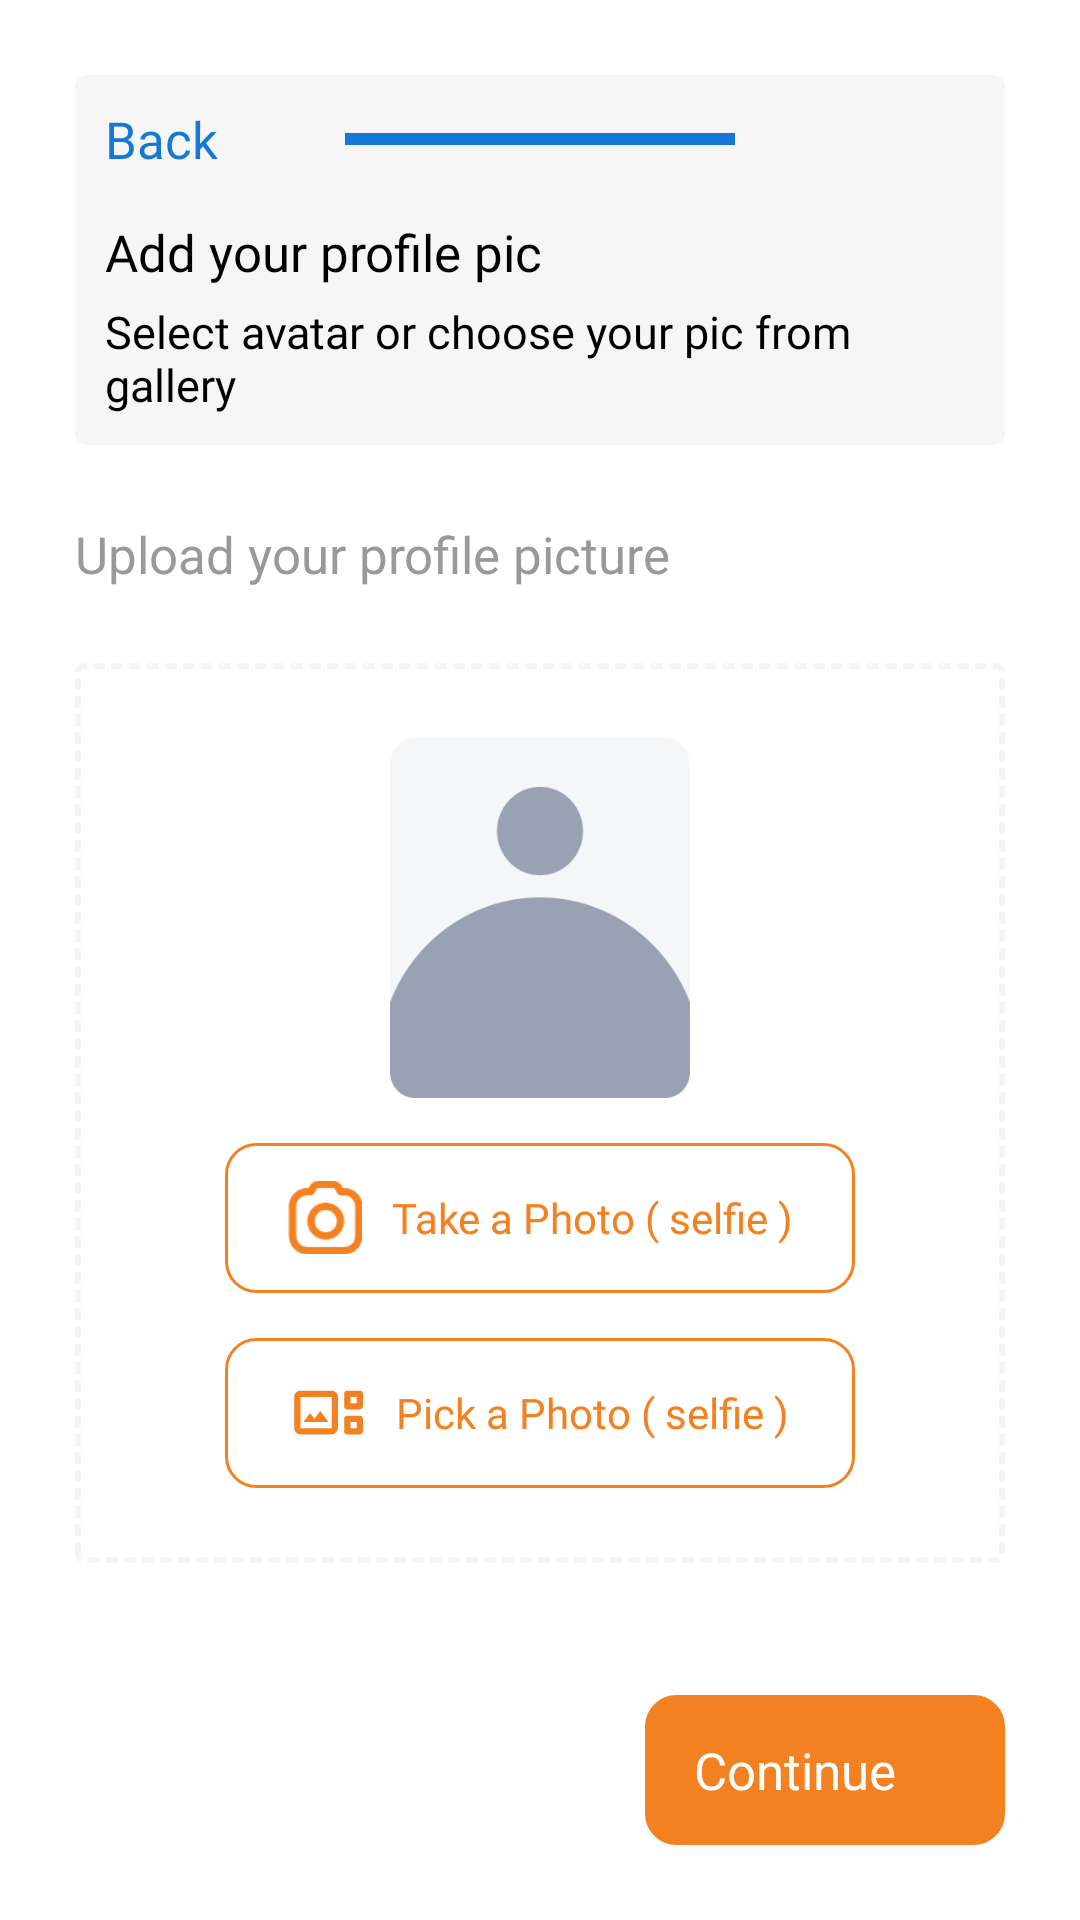

Screen size 1080x1920. Icon name, then its center in pixels as (x,y):
camera: (325,1217)
gallery: (328,1412)
user: (540,942)
